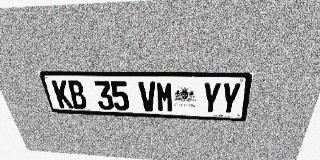3: (94, 81, 114, 110)
5: (110, 81, 130, 111)
B: (66, 80, 88, 109)
K: (51, 80, 74, 108)
M: (156, 81, 174, 112)
V: (138, 81, 157, 112)
Y: (219, 82, 242, 115), (201, 82, 222, 114)
